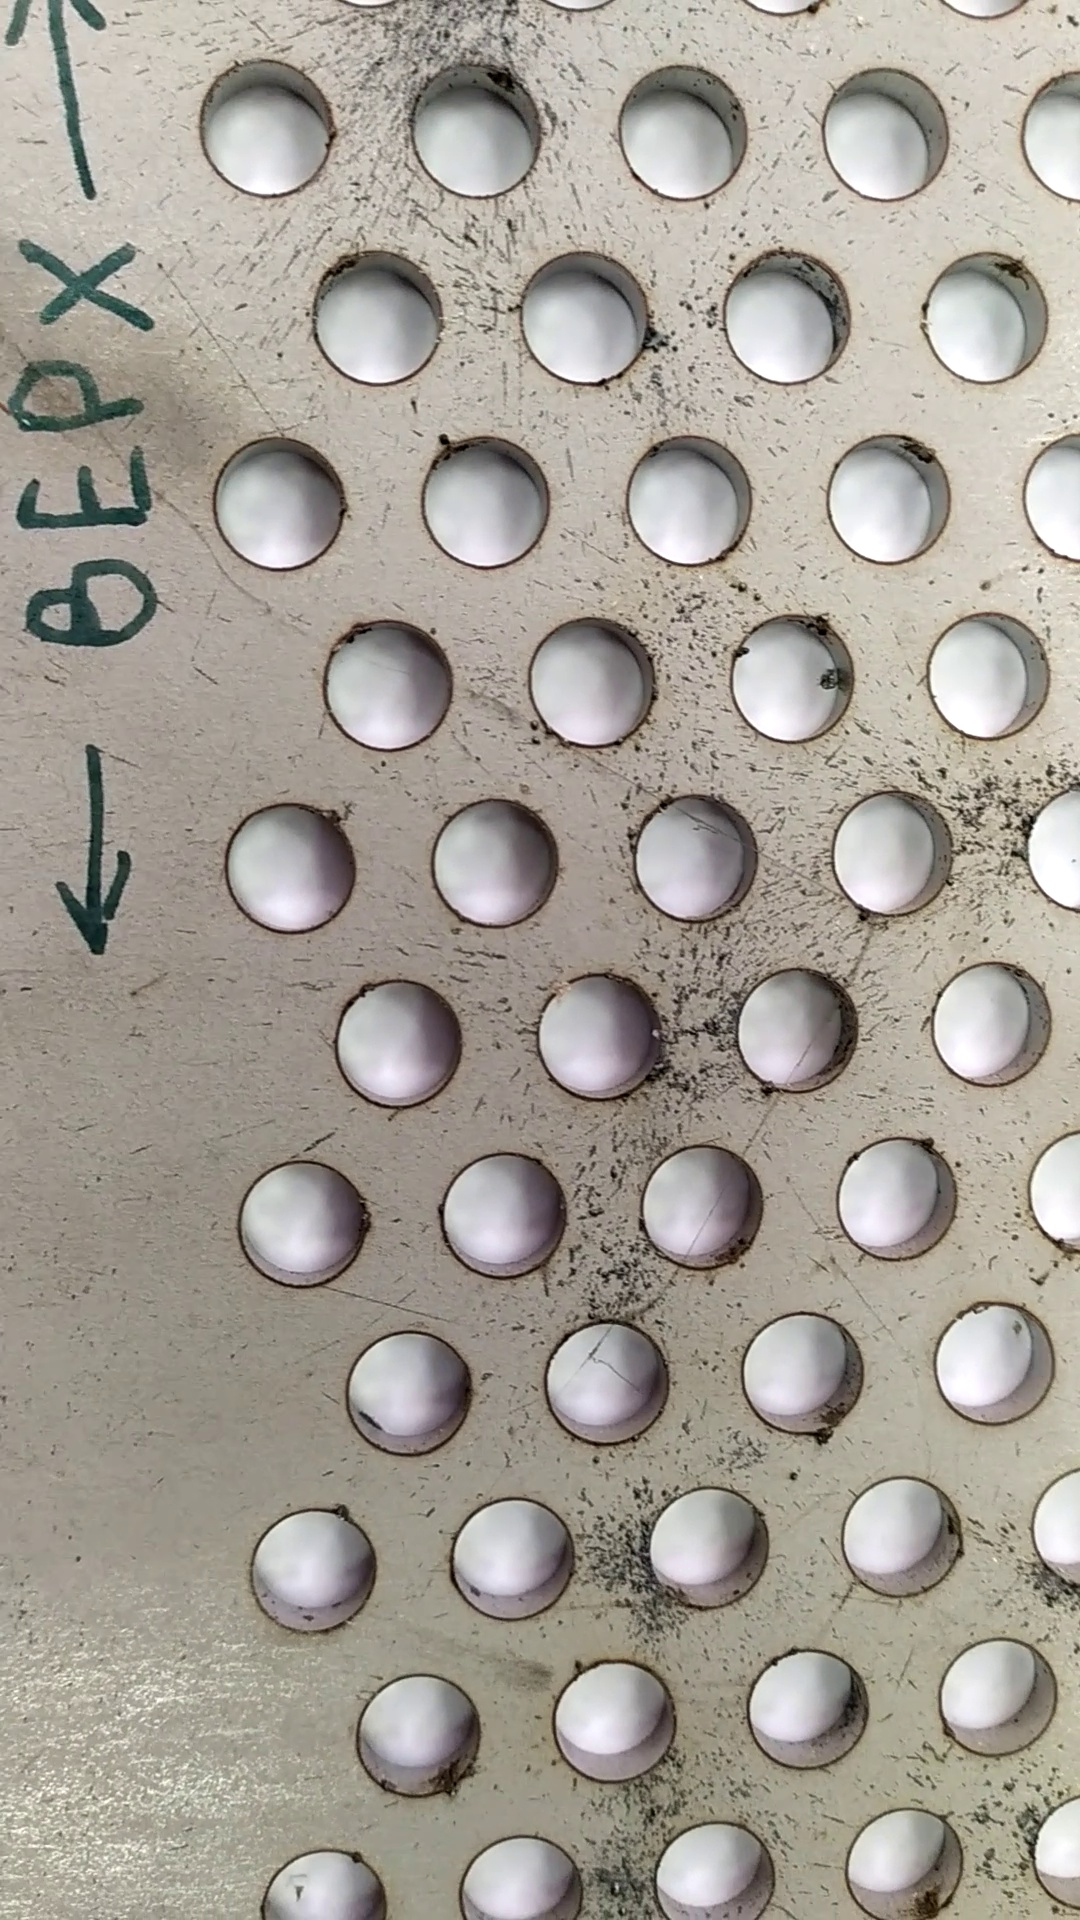Hole: (302, 607, 479, 764), (604, 419, 764, 585), (498, 244, 671, 397), (398, 46, 559, 207), (902, 236, 1062, 397), (806, 55, 967, 214), (295, 240, 458, 397), (709, 237, 869, 396), (220, 1154, 389, 1303), (185, 51, 342, 207), (620, 777, 777, 932), (418, 777, 568, 938), (527, 960, 680, 1117), (212, 793, 375, 940), (918, 1283, 1073, 1433), (404, 429, 563, 575), (724, 956, 876, 1109), (607, 58, 761, 207), (829, 1460, 982, 1609), (236, 1497, 394, 1640), (820, 1120, 969, 1271), (717, 1307, 873, 1452), (340, 1319, 492, 1466), (200, 430, 353, 575), (622, 1135, 777, 1279), (426, 1487, 585, 1626), (918, 952, 1067, 1098), (818, 425, 963, 575), (520, 605, 665, 756), (812, 779, 959, 926), (326, 971, 469, 1120), (720, 607, 866, 752), (914, 601, 1059, 746), (343, 1668, 500, 1801), (541, 1309, 683, 1451), (732, 1642, 881, 1775), (438, 1146, 574, 1291), (640, 1480, 785, 1615), (541, 1652, 687, 1785), (930, 1634, 1069, 1764)
